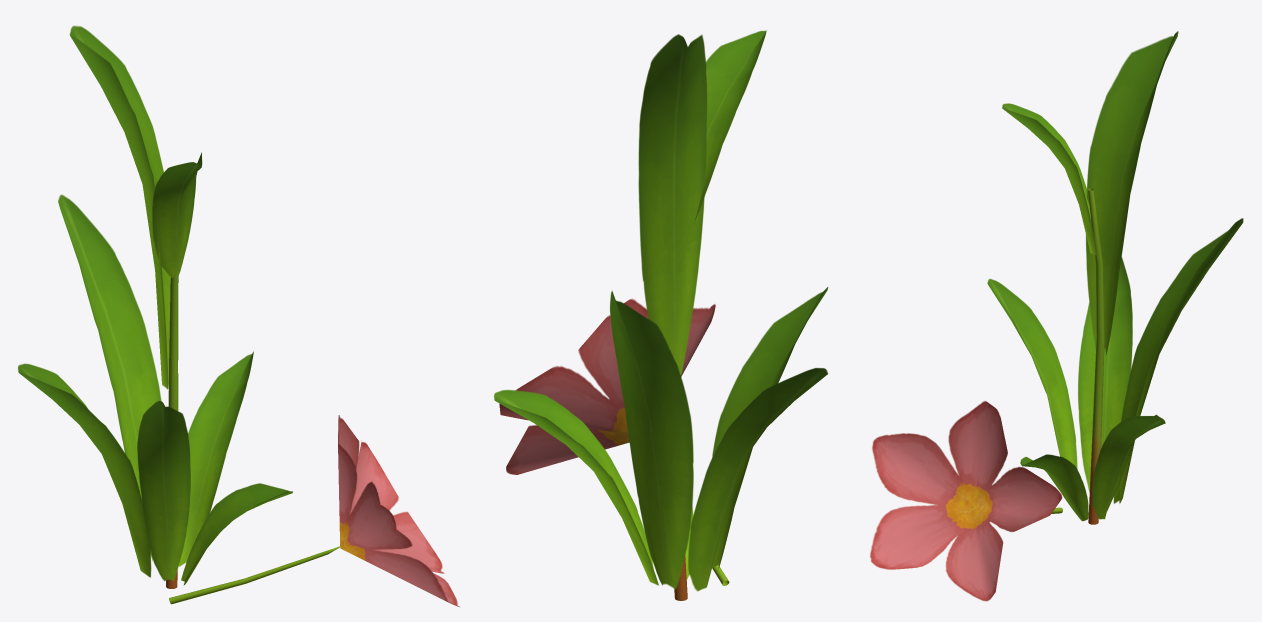
Rendered from FlowerCut.gltf.
The picture shows the model from 3 angles, left to right: view 1: azimuth 30°, elevation 25°; view 2: azimuth 150°, elevation 25°; view 3: azimuth 270°, elevation 25°; orthographic projection. The views are drawn at different scales.
Parts seen in each view (by area): view 1: Flower_3_Single; view 2: Flower_3_Single; view 3: Flower_3_Single.
Part boxes in pixels (x1,y1,x2,y2): Flower_3_Single: (18,25,459,607); Flower_3_Single: (494,30,828,600); Flower_3_Single: (870,31,1243,601).
Bounding box in the file's own units: 1.21 × 1.79 × 1.29.
Materials: 2 (2 with a texture image).
